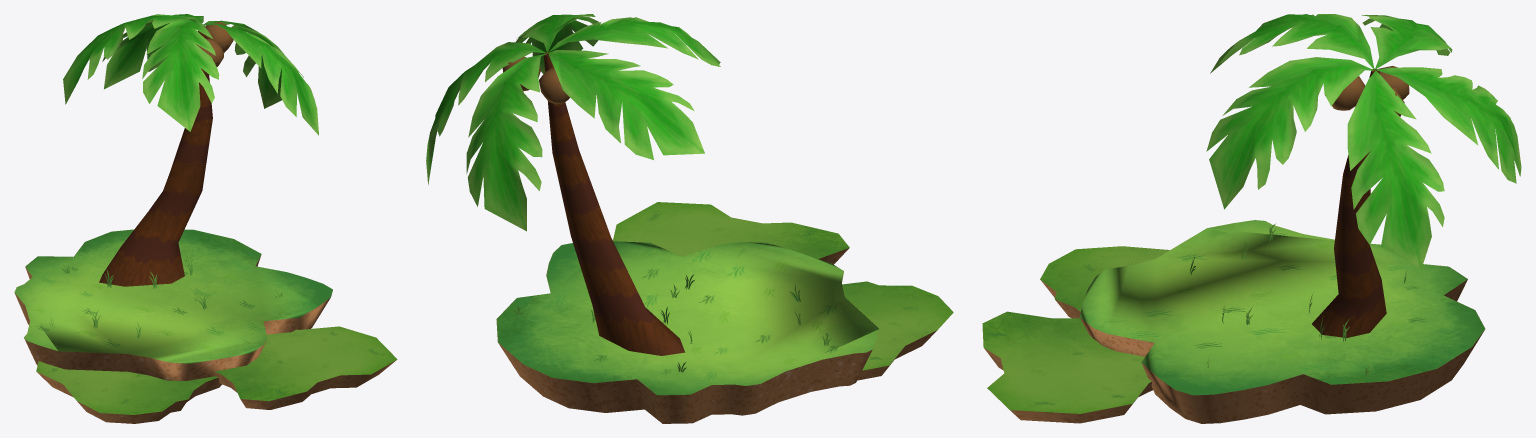
File: island.glb
3 views of the same model, side by side, from view 1: azimuth 30°, elevation 25°; view 2: azimuth 150°, elevation 25°; view 3: azimuth 270°, elevation 25° (orthographic). The views are drawn at different scales.
Parts seen in each view (by area): view 1: Island01_chest; view 2: Island01_chest; view 3: Island01_chest.
Boxes of the visible parts, x1,y1,x2,y2 form: Island01_chest: (14,14,397,423); Island01_chest: (426,14,953,423); Island01_chest: (982,14,1521,423).
Size of the model in its own units: 42.31 by 35.83 by 49.
Materials: 1 (1 with a texture image).
